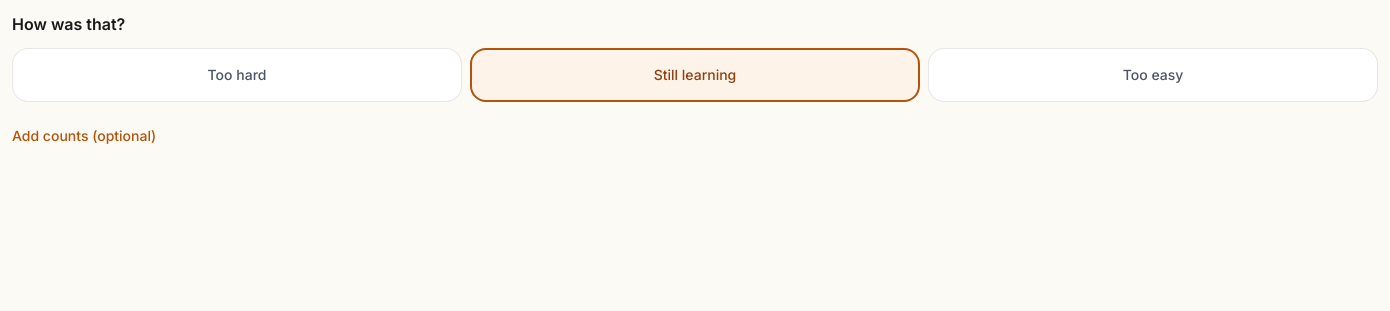
Test: PerDrillCapture captureShape: count › reveals the Good/Total inputs after tapping "Add counts"
This screenshot has width=1390, height=311.
What coordinates should you click on to do the following:
click the button with test id "per-drill-add-counts"
I would click on:
 (84, 136)
Its box is [12,114,156,158].
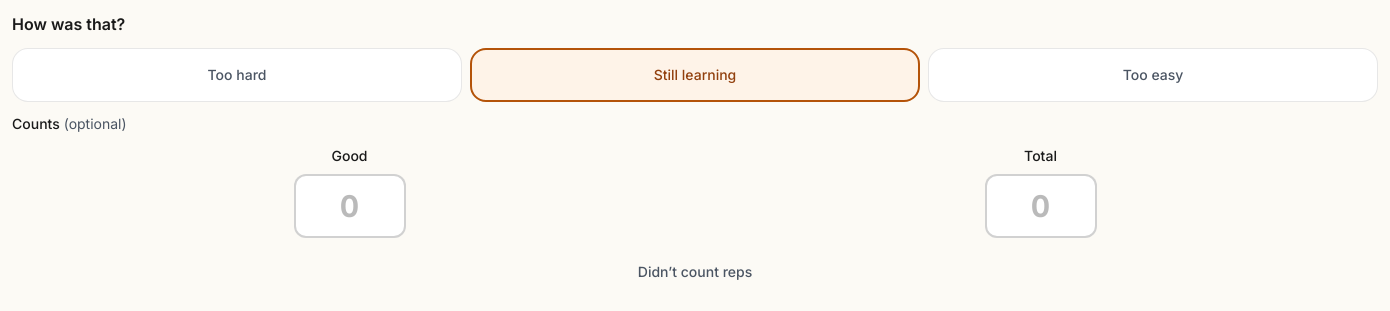
Check: the element with test id "per-drill-counts" is shown, box [12,115,1096,294]
Check: the button with test id "per-drill-add-counts" is gone
